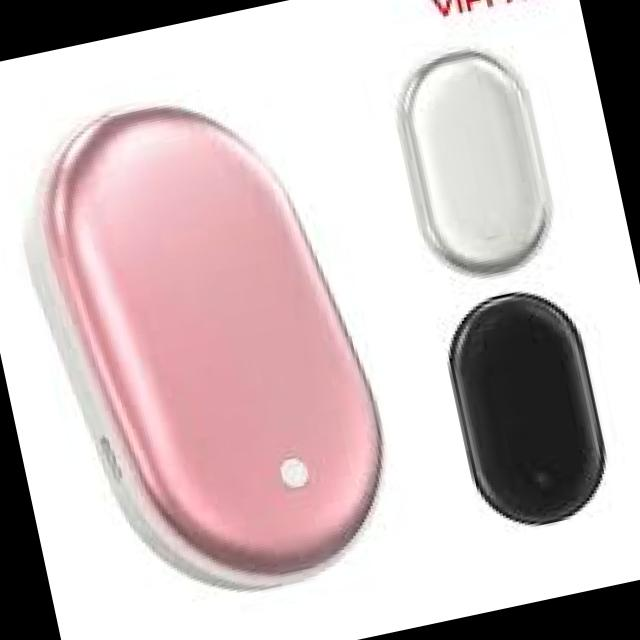power_bank: (0, 57, 422, 624), (430, 269, 626, 542), (377, 32, 566, 287)
